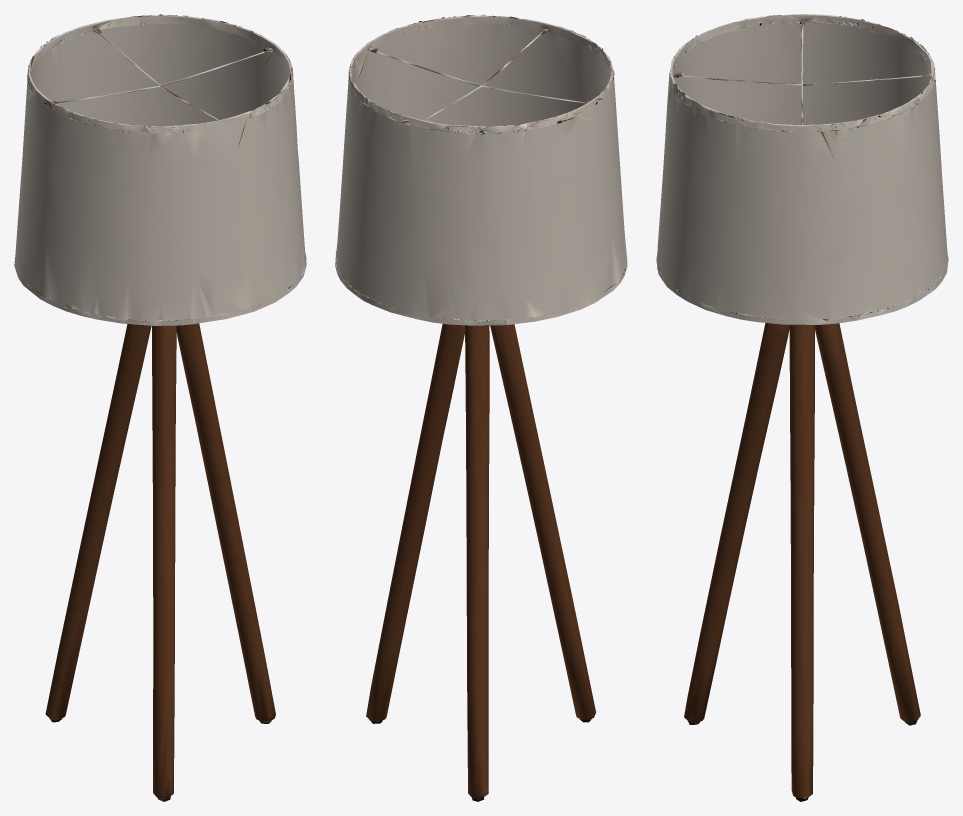
The model's file is lampara.glb.
3 renders of one model, left to right at view 1: azimuth 30°, elevation 25°; view 2: azimuth 150°, elevation 25°; view 3: azimuth 270°, elevation 25°, orthographic.
Visible parts, largest first — view 1: objeto; view 2: objeto; view 3: objeto.
Boxes of the visible parts, box(x1,y1,x2,y2) form: objeto: box(14, 14, 306, 801); objeto: box(335, 14, 627, 801); objeto: box(656, 14, 948, 801).
Size of the model in its own units: 0.5851 by 1.5 by 0.586.
Materials: 1 (1 with a texture image).
